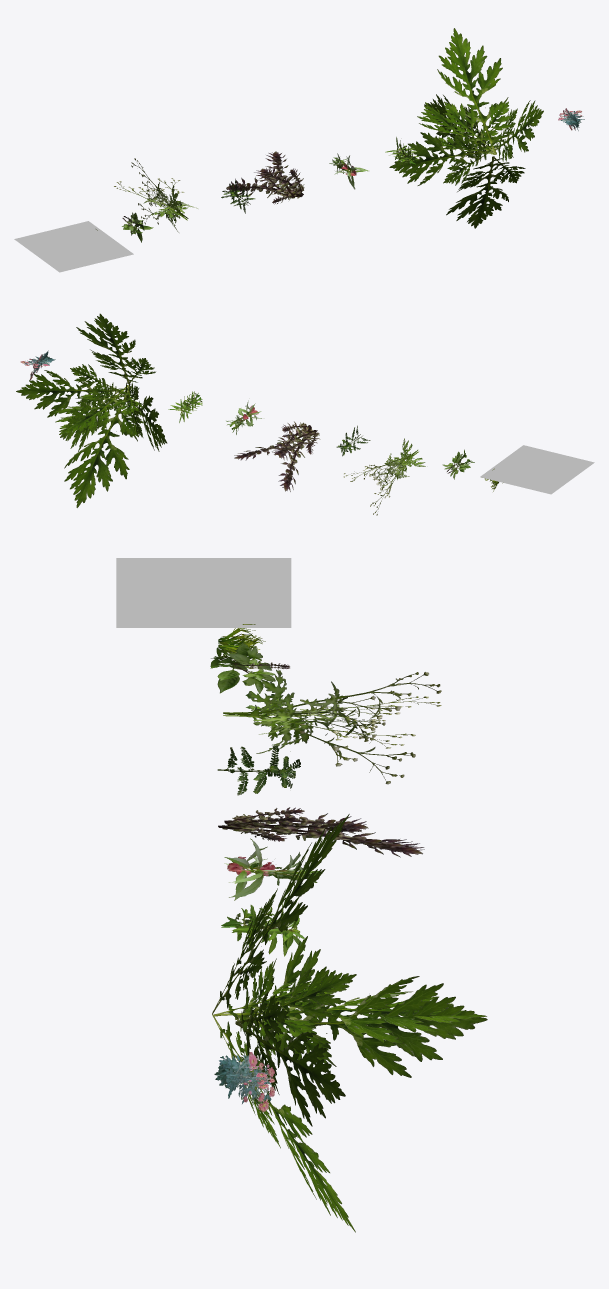
File: plants.fbx
The picture shows the model from 3 angles, top to bottom: view 1: azimuth 30°, elevation 25°; view 2: azimuth 150°, elevation 25°; view 3: azimuth 270°, elevation 25°; orthographic projection. The views are drawn at different scales.
Visible parts, largest first — view 1: Plane.014, leaf, Plane.006, Plane.015, Plane.011, Plane.002, Plane.016, Plane.013; view 2: Plane.014, leaf, Plane.006, Plane.015, Plane.002, Plane.011, Plane.016, Plane.013, Plane.010; view 3: Plane.014, leaf, Plane.015, Plane.006, Plane.010, Plane.016, Plane.011, Plane.013, Plane.002.
Boxes of the visible parts, x1=… form: Plane.014: x1=389, y1=28, x2=543, y2=228; leaf: x1=14, y1=221, x2=133, y2=272; Plane.006: x1=226, y1=151, x2=304, y2=204; Plane.015: x1=114, y1=158, x2=197, y2=232; Plane.011: x1=329, y1=153, x2=368, y2=189; Plane.002: x1=385, y1=137, x2=418, y2=167; Plane.016: x1=122, y1=212, x2=153, y2=242; Plane.013: x1=221, y1=180, x2=255, y2=213; Plane.014: x1=16, y1=313, x2=167, y2=507; leaf: x1=480, y1=445, x2=594, y2=494; Plane.006: x1=234, y1=421, x2=320, y2=491; Plane.015: x1=343, y1=438, x2=425, y2=515; Plane.002: x1=168, y1=391, x2=202, y2=422; Plane.011: x1=226, y1=400, x2=261, y2=434; Plane.016: x1=442, y1=449, x2=474, y2=479; Plane.013: x1=336, y1=425, x2=370, y2=456; Plane.010: x1=20, y1=350, x2=55, y2=379; Plane.014: x1=212, y1=814, x2=487, y2=1232; leaf: x1=116, y1=558, x2=291, y2=627; Plane.015: x1=223, y1=667, x2=441, y2=784; Plane.006: x1=218, y1=807, x2=424, y2=857; Plane.010: x1=214, y1=1052, x2=274, y2=1112; Plane.016: x1=210, y1=643, x2=289, y2=693; Plane.011: x1=224, y1=838, x2=318, y2=900; Plane.013: x1=217, y1=745, x2=300, y2=795; Plane.002: x1=221, y1=903, x2=304, y2=956.
Size of the model in its own units: 399 by 144 by 121.
